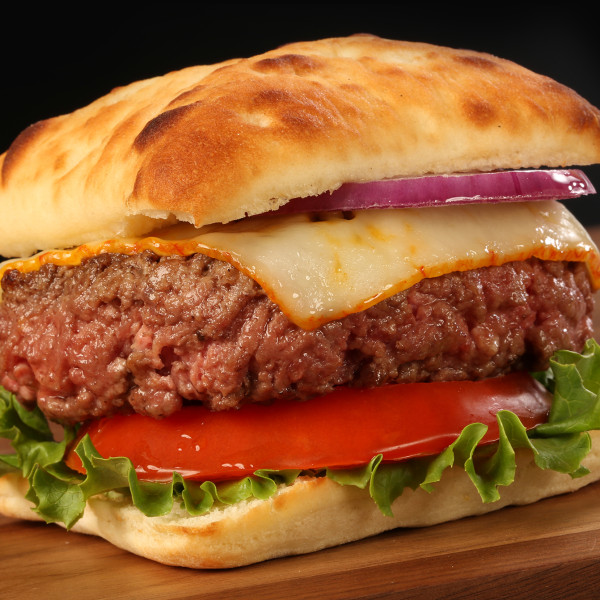hamburger_buns: (2, 21, 600, 209)
